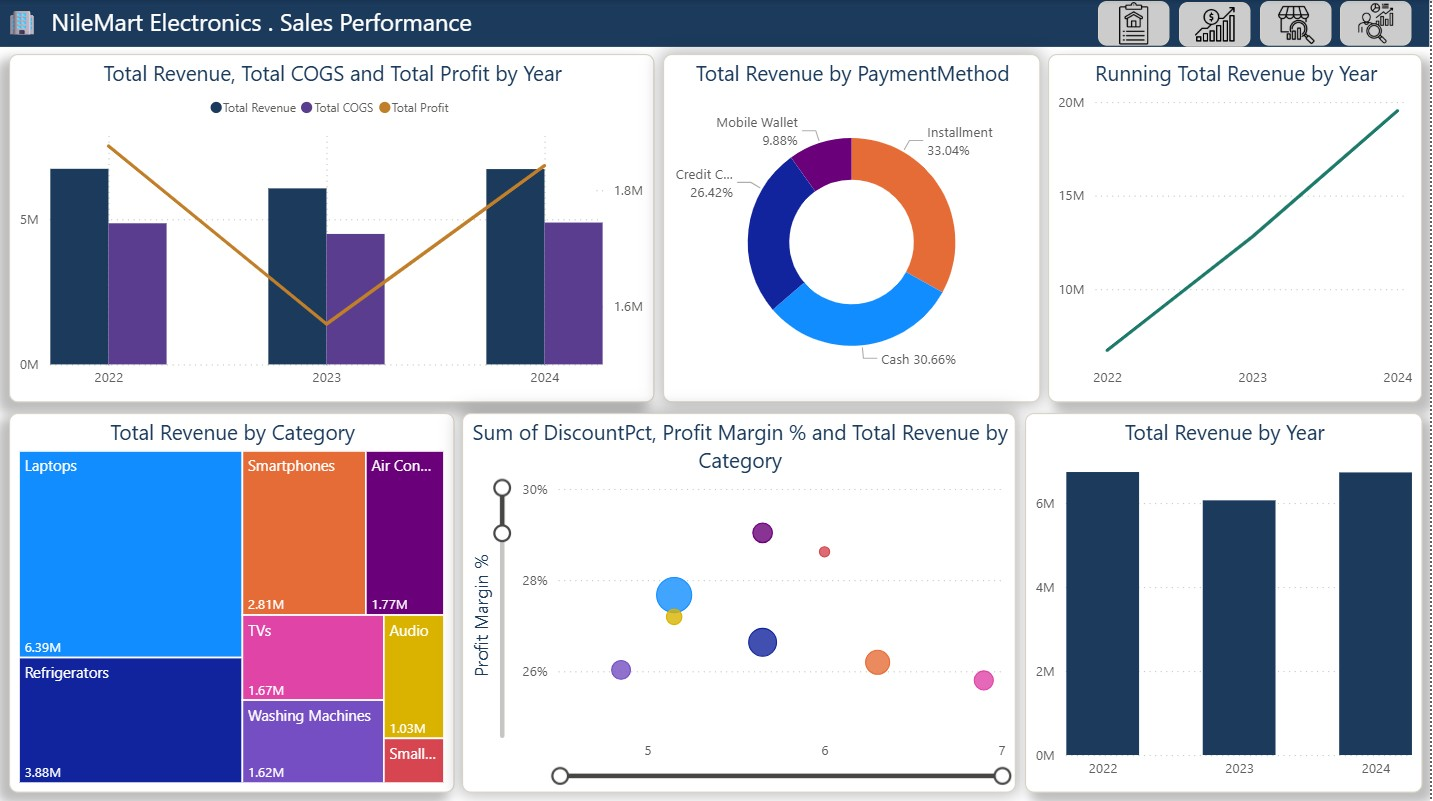

The page's visual inventory and layout, read from the dashboard file:
{"tool":"powerbi","page":{"name":"Sales Performance ","canvas":[1280,720],"ordinal":1},"visuals":[{"type":"textbox","box":[0,0,1280,42],"z":0},{"type":"lineClusteredColumnComboChart","fields":{"Category":["DateTable.Year","DateTable.Month"],"Y":["_Measure.Total Revenue","_Measure.Total COGS"],"Y2":["_Measure.Total Profit"]},"box":[8.1,48.4,577.6,311.6],"z":1000},{"type":"donutChart","fields":{"Y":["_Measure.Total Revenue"],"Category":["Sales.PaymentMethod"]},"box":[593.7,48.4,337.6,311.6],"z":2000},{"type":"lineChart","fields":{"Y":["_Measure.Running Total Revenue"],"Category":["DateTable.Year","DateTable.MonthName"]},"box":[938.5,48.4,335,311.6],"z":3000},{"type":"treemap","fields":{"Group":["Products.Category","Products.Brand"],"Values":["_Measure.Total Revenue"]},"box":[8.1,369.9,398.5,340.3],"z":4000},{"type":"scatterChart","fields":{"X":["Sum(Sales.DiscountPct)"],"Y":["_Measure.Profit Margin %"],"Size":["_Measure.Total Revenue"],"Category":["Products.Category"]},"box":[413.7,369.9,496.1,340.3],"z":5000},{"type":"clusteredColumnChart","fields":{"Category":["DateTable.Year","DateTable.QuarterLabel","DateTable.MonthName"],"Y":["_Measure.Total Revenue"]},"box":[917.9,369.9,355.5,340.3],"z":6000},{"type":"image","box":[1128,1,64,40],"z":7000},{"type":"image","box":[1200,1,64,40],"z":8000},{"type":"image","box":[983,1,64.5,40.3],"z":9000},{"type":"image","box":[1056,1.8,64.5,40.3],"z":10000}]}

Visuals, with their boxes in screenshot pixels (x1, y1, x2, y2), scaled from the page's 1280x720 canvas onto the 1433x801 screenshot:
textbox: region(0, 0, 1432, 47)
lineClusteredColumnComboChart - DateTable.Year x DateTable.Month: region(9, 54, 656, 400)
donutChart - _Measure.Total Revenue x Sales.PaymentMethod: region(665, 54, 1043, 400)
lineChart - _Measure.Running Total Revenue x DateTable.Year: region(1051, 54, 1426, 400)
treemap - Products.Category x Products.Brand: region(9, 412, 455, 790)
scatterChart - Sum(Sales.DiscountPct) x _Measure.Profit Margin %: region(463, 412, 1019, 790)
clusteredColumnChart - DateTable.Year x DateTable.QuarterLabel: region(1028, 412, 1426, 790)
image: region(1263, 1, 1334, 46)
image: region(1343, 1, 1415, 46)
image: region(1100, 1, 1173, 46)
image: region(1182, 2, 1254, 47)
